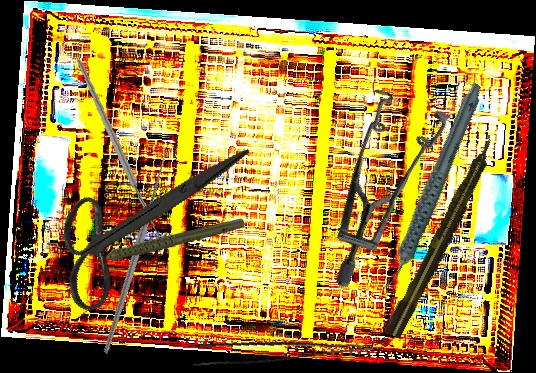Handpiece: (339, 79, 522, 293), (382, 132, 503, 340), (83, 217, 245, 263)
Hook Surgical: (23, 140, 242, 355), (57, 59, 194, 247)
Iris Scissors: (34, 93, 252, 347)
Speculum: (259, 62, 498, 292)
Tissue Forceps: (190, 323, 374, 372)
